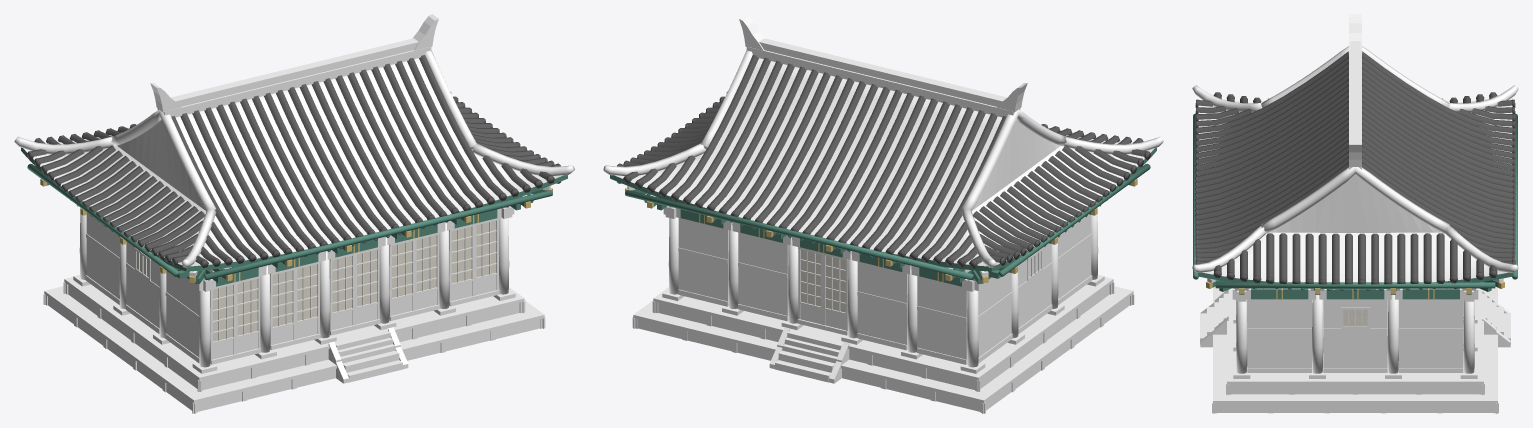
Rendered from v_hall5.glb.
3 views of the same model, side by side, from view 1: azimuth 30°, elevation 25°; view 2: azimuth 150°, elevation 25°; view 3: azimuth 270°, elevation 25° (orthographic). The views are drawn at different scales.
Visible parts, largest first — view 1: v_hall5_giwa_row, v_hall5_giwa, v_hall5_red, v_hall5_granite, v_hall5_paper, v_hall5_plinth, v_hall5_green, v_hall5_plaster, v_hall5_gold; view 2: v_hall5_giwa_row, v_hall5_giwa, v_hall5_plaster, v_hall5_red, v_hall5_granite, v_hall5_plinth, v_hall5_green, v_hall5_paper, v_hall5_gold; view 3: v_hall5_giwa_row, v_hall5_giwa, v_hall5_plaster, v_hall5_granite, v_hall5_red, v_hall5_plinth, v_hall5_green, v_hall5_paper, v_hall5_gold.
Part boxes in pixels (x1,y1,x2,y2): v_hall5_giwa_row: (27, 55, 560, 268); v_hall5_giwa: (14, 14, 574, 267); v_hall5_red: (79, 120, 550, 367); v_hall5_granite: (43, 274, 545, 413); v_hall5_paper: (137, 220, 496, 341); v_hall5_plinth: (48, 285, 539, 411); v_hall5_green: (21, 147, 567, 286); v_hall5_plaster: (86, 214, 231, 357); v_hall5_gold: (40, 179, 552, 283); v_hall5_giwa_row: (617, 55, 1150, 268); v_hall5_giwa: (603, 14, 1163, 267); v_hall5_plaster: (678, 214, 1091, 359); v_hall5_red: (627, 120, 1098, 367); v_hall5_granite: (632, 274, 1134, 413); v_hall5_plinth: (638, 285, 1129, 411); v_hall5_green: (610, 147, 1156, 286); v_hall5_paper: (801, 249, 1040, 312); v_hall5_gold: (625, 179, 1137, 283); v_hall5_giwa_row: (1195, 51, 1515, 284); v_hall5_giwa: (1192, 14, 1518, 282); v_hall5_plaster: (1247, 288, 1463, 367); v_hall5_granite: (1200, 286, 1510, 413); v_hall5_red: (1207, 174, 1503, 373); v_hall5_plinth: (1200, 298, 1510, 412); v_hall5_green: (1193, 113, 1517, 299); v_hall5_paper: (1343, 309, 1367, 326); v_hall5_gold: (1206, 281, 1504, 299).
Size of the model in its own units: 9.86 by 6.37 by 7.46.
